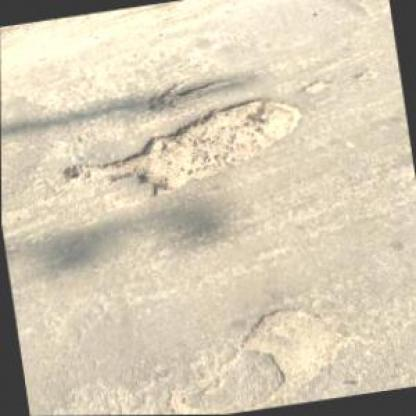pothole: (53, 90, 312, 211), (234, 300, 346, 406), (144, 74, 239, 115), (302, 76, 334, 96)
